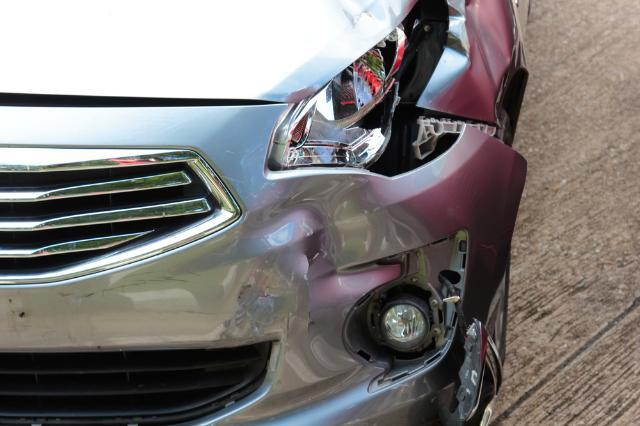dent: (229, 177, 410, 394), (430, 0, 512, 116), (335, 0, 418, 32)
dislocated part: (218, 107, 528, 426)
lamp broken: (280, 27, 411, 169)
